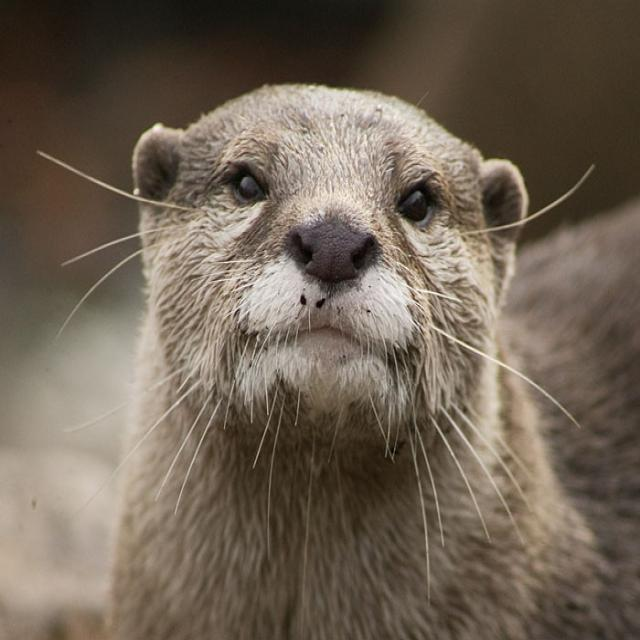otter: (122, 85, 640, 640)
